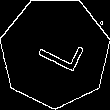L_NW: (26, 27, 84, 77)
